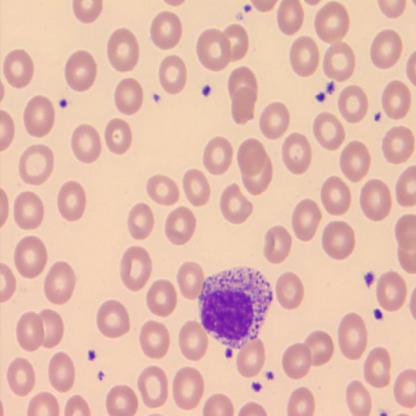Myelocyte: (199, 265, 273, 345)
